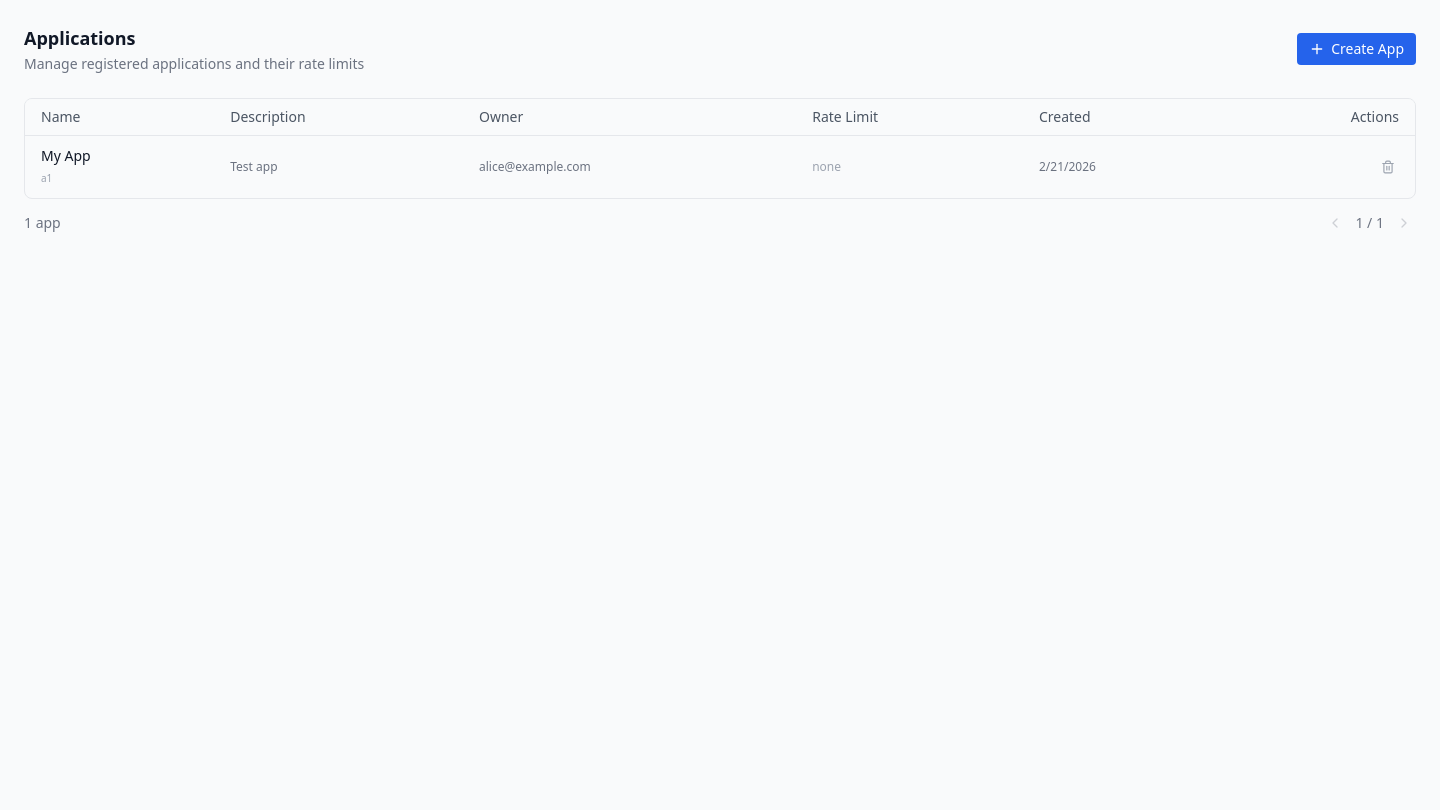
Apps › create button opens create modal
Expected: the text "My App" is shown, [41,146,91,165]
Click the button "Create App" at (1357,49), box [1297,33,1416,65]
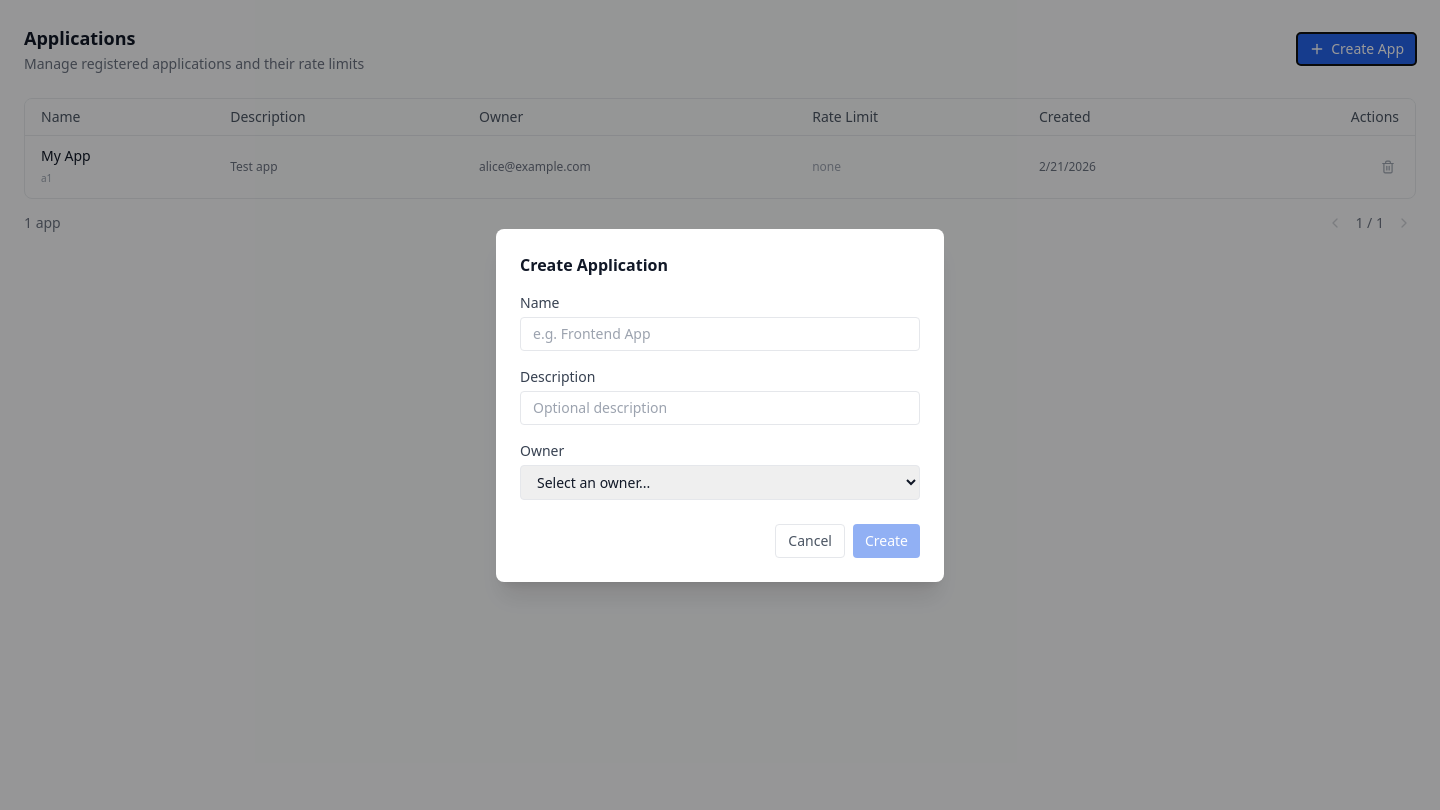
Result: the heading "Create Application" is shown at [520,254,668,276]
Result: the field named "App name" is shown at [520,316,920,350]
